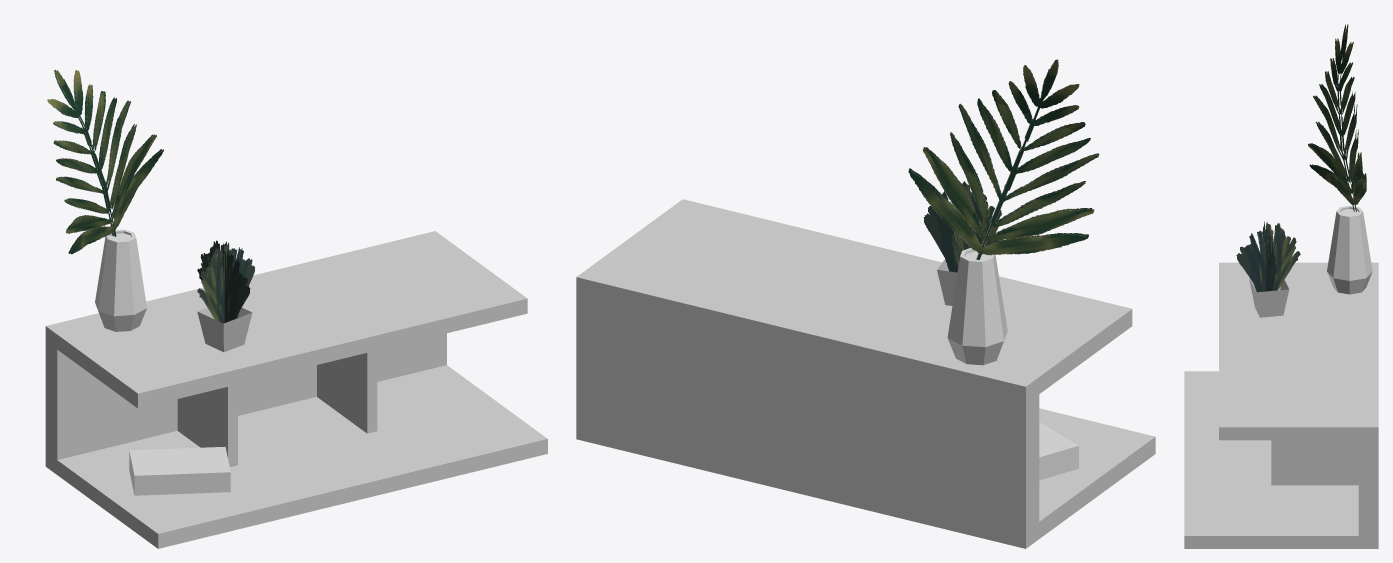
File: Tile_small_shelf.fbx
3 views of the same model, side by side, from view 1: azimuth 30°, elevation 25°; view 2: azimuth 150°, elevation 25°; view 3: azimuth 270°, elevation 25° (orthographic). The views are drawn at different scales.
Parts seen in each view (by area): view 1: Plane.009; view 2: Plane.009; view 3: Plane.009.
Boxes of the visible parts, <box> form: Plane.009: <box>45,69,547,548</box>; Plane.009: <box>576,59,1155,548</box>; Plane.009: <box>1184,24,1378,548</box>.
Bounding box in the file's own units: 472 × 435 × 200.
